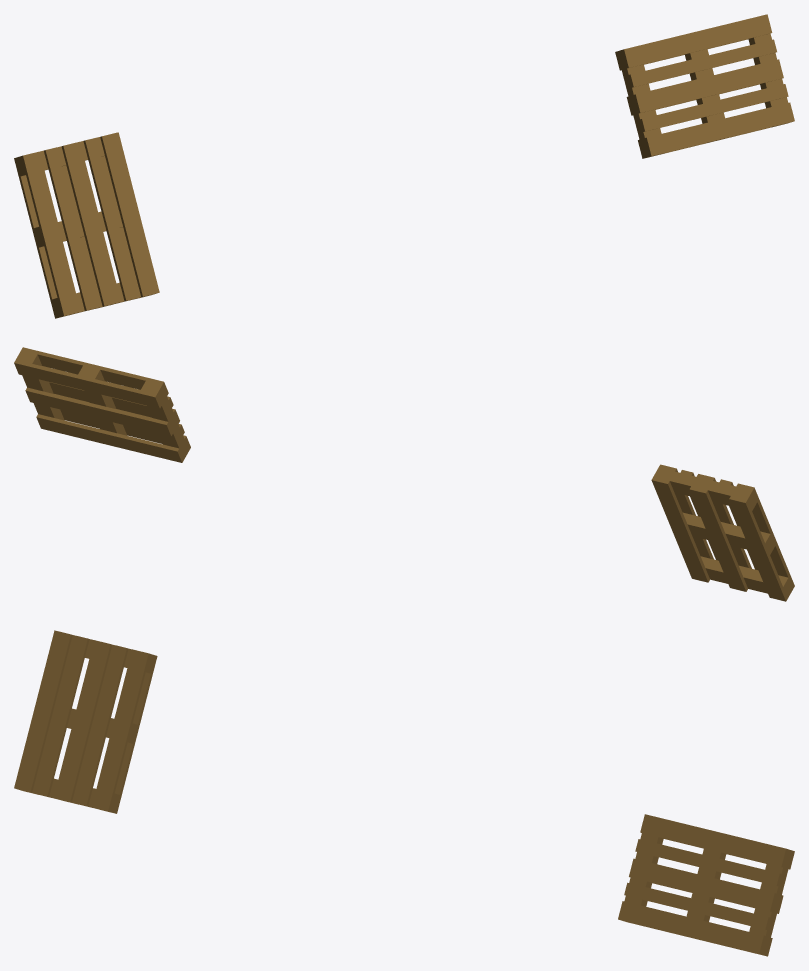
Rendered from palette.dae.
3 views of the same model, one above another, from view 1: azimuth 30°, elevation 25°; view 2: azimuth 150°, elevation 25°; view 3: azimuth 330°, elevation 25° (orthographic).
Parts seen in each view (by area): view 1: palette (×2); view 2: palette (×2); view 3: palette (×2).
Part boxes in pixels (<box>): palette (×2): <box>14,14,794,318</box>; palette (×2): <box>14,347,794,601</box>; palette (×2): <box>14,630,794,956</box>.
Bounding box in the file's own units: 158 × 28.4 × 18.49.
